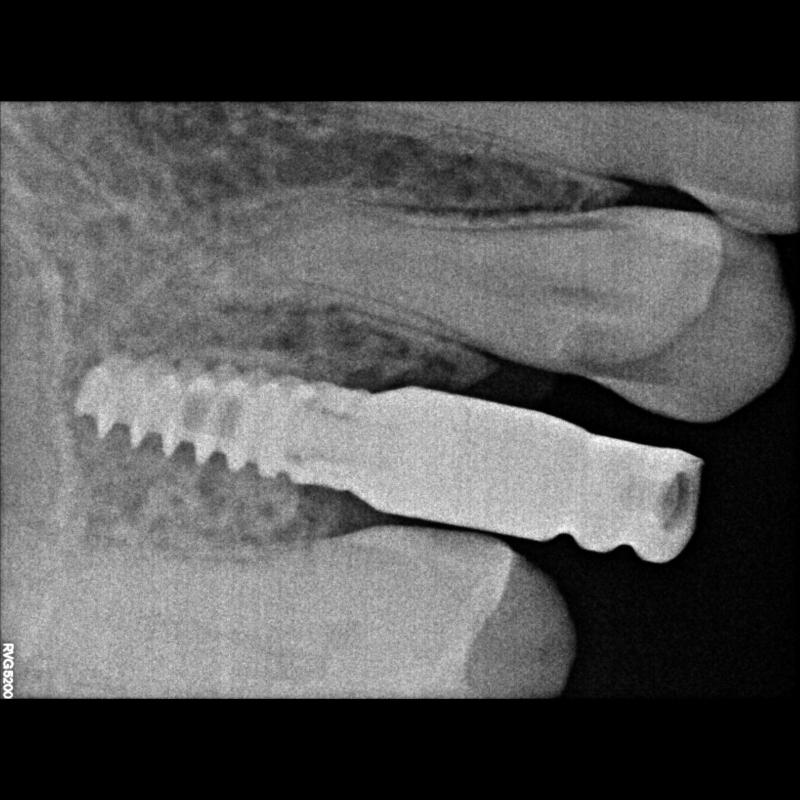ADIN: (71, 329, 374, 517)
